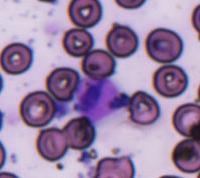D: (74, 76, 130, 124)
